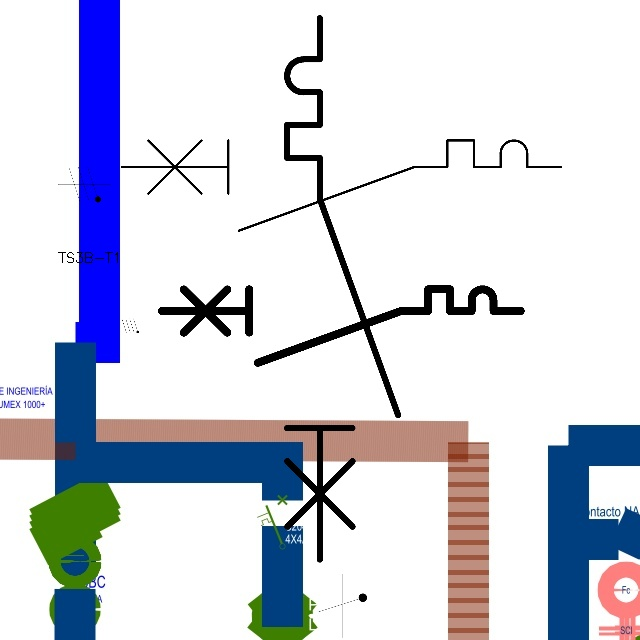interruptor_termomagnetico: (273, 4, 412, 574), (110, 129, 571, 242), (152, 280, 529, 372)
